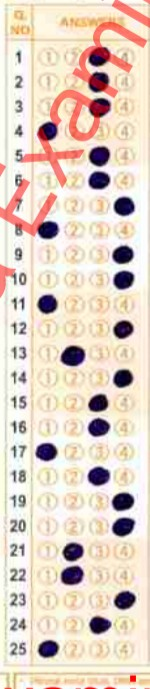filled circles: (61, 345, 84, 365), (61, 565, 83, 584), (113, 517, 134, 536), (38, 221, 59, 240), (114, 590, 135, 609), (114, 197, 135, 216), (113, 270, 133, 289), (63, 542, 83, 561), (89, 146, 109, 165), (37, 294, 57, 313), (89, 98, 110, 116), (88, 467, 109, 485), (88, 418, 109, 436), (112, 492, 133, 510), (89, 72, 108, 91), (113, 245, 133, 263), (89, 47, 109, 65), (88, 171, 109, 188), (114, 320, 133, 338), (113, 369, 132, 387), (38, 640, 58, 657), (90, 616, 110, 633), (36, 443, 56, 460), (38, 121, 56, 139), (88, 394, 107, 411)
